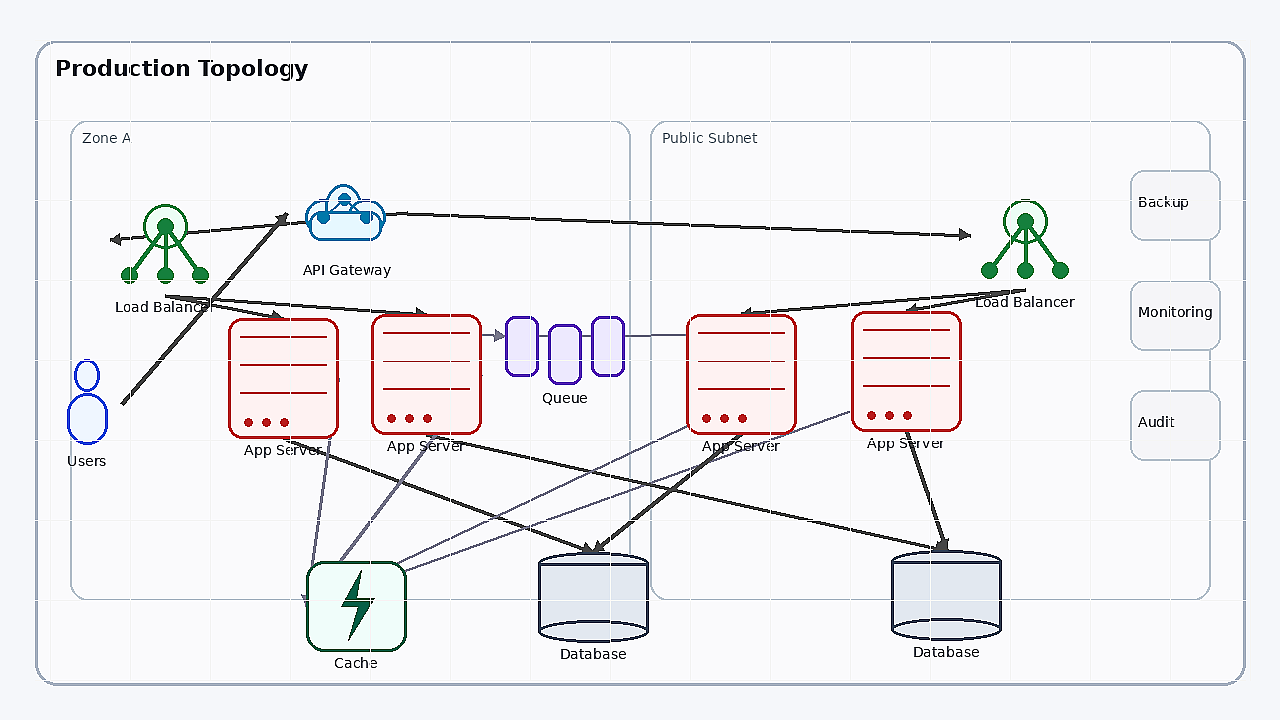API Gateway: (287, 168, 407, 258)
Application Server: (228, 318, 338, 438), (851, 311, 961, 431), (371, 314, 481, 434), (686, 314, 796, 434)
Cache: (306, 561, 406, 651)
Database: (538, 552, 648, 642), (891, 550, 1001, 640)
Load Balancer: (970, 180, 1080, 290), (110, 185, 220, 295)
Message Queue: (505, 316, 625, 386)
User: (52, 359, 122, 449)
